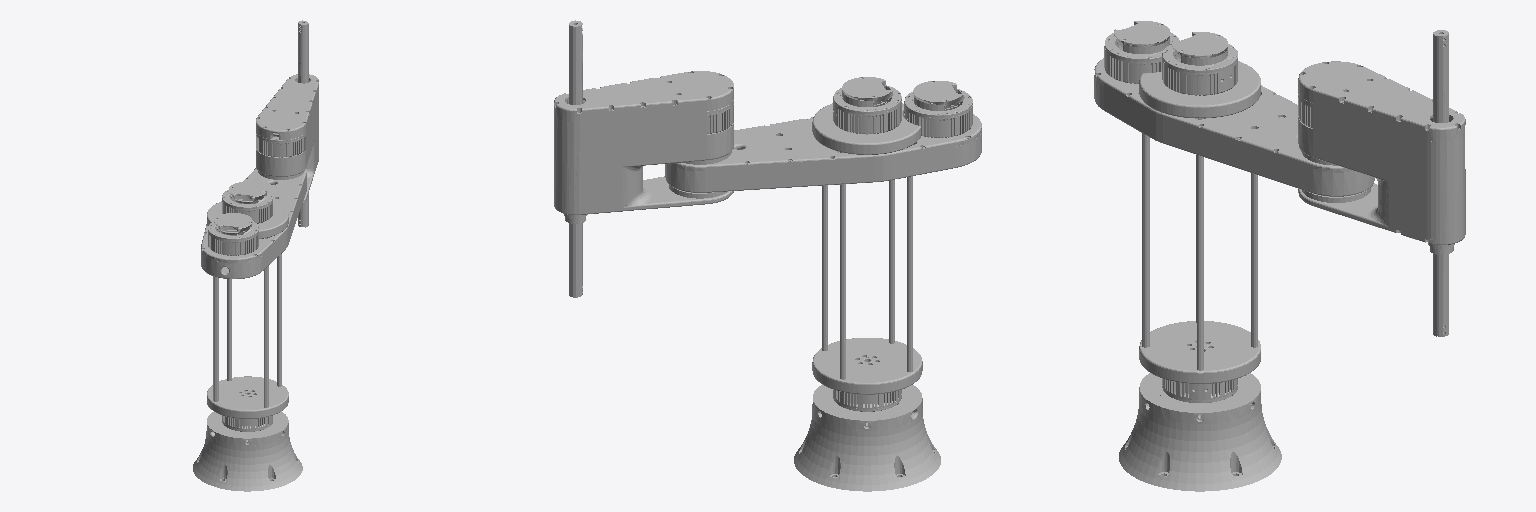
robot.urdf — scara:
<?xml version="1.0" encoding="utf-8"?>
<!-- This URDF was automatically created by SolidWorks to URDF Exporter! Originally created by [author] ([email redacted]) 
     Commit Version: 1.6.0-4-g7f85cfe  Build Version: 1.6.7995.38578
     For more information, please see http://wiki.ros.org/sw_urdf_exporter -->
<robot
  name="scara">
  <link
    name="base_link">
    <inertial>
      <origin
        xyz="-0.0312181080670715 -0.0334669780988594 -0.0578218547916156"
        rpy="0 0 0" />
      <mass
        value="0.991553024814628" />
      <inertia
        ixx="0.00192448076414443"
        ixy="3.88978492965056E-10"
        ixz="-1.9021143982621E-06"
        iyy="0.00191951034718875"
        iyz="-4.5832416130843E-10"
        izz="0.00288630780270429" />
    </inertial>
    <visual>
      <origin
        xyz="0 0 0"
        rpy="0 0 0" />
      <geometry>
        <mesh
          filename="package://scara/meshes/base_link.STL" />
      </geometry>
      <material
        name="">
        <color
          rgba="0.752941176470588 0.752941176470588 0.752941176470588 1" />
      </material>
    </visual>
    <collision>
      <origin
        xyz="0 0 0"
        rpy="0 0 0" />
      <geometry>
        <mesh
          filename="package://scara/meshes/base_link.STL" />
      </geometry>
    </collision>
  </link>
  <link
    name="link_1">
    <inertial>
      <origin
        xyz="0.00172917182975192 0.139396211973665 3.33066907387547E-16"
        rpy="0 0 0" />
      <mass
        value="0.380691277343991" />
      <inertia
        ixx="0.000867489103437293"
        ixy="4.18755318646343E-08"
        ixz="-2.71050543121376E-20"
        iyy="0.000688098984738763"
        iyz="1.68789441430779E-13"
        izz="0.000830767097364369" />
    </inertial>
    <visual>
      <origin
        xyz="0 0 0"
        rpy="0 0 0" />
      <geometry>
        <mesh
          filename="package://scara/meshes/link_1.STL" />
      </geometry>
      <material
        name="">
        <color
          rgba="0.752941176470588 0.752941176470588 0.752941176470588 1" />
      </material>
    </visual>
    <collision>
      <origin
        xyz="0 0 0"
        rpy="0 0 0" />
      <geometry>
        <mesh
          filename="package://scara/meshes/link_1.STL" />
      </geometry>
    </collision>
  </link>
  <joint
    name="joint_1"
    type="continuous">
    <origin
      xyz="-0.03133 -0.033466 0.019267"
      rpy="1.5708 0 0.78682" />
    <parent
      link="base_link" />
    <child
      link="link_1" />
    <axis
      xyz="0 1 0" />
    <limit
      lower="-3.14159"
      upper="3.14159"
      effort="0"
      velocity="0" />
  </joint>
  <link
    name="link_2">
    <inertial>
      <origin
        xyz="0.0387315298598948 0.0319513315645544 3.34457413448536E-08"
        rpy="0 0 0" />
      <mass
        value="0.584294845237385" />
      <inertia
        ixx="0.00070211387685335"
        ixy="3.46512571243546E-06"
        ixz="1.72393732920722E-09"
        iyy="0.00573417647994412"
        iyz="-1.17884429292898E-10"
        izz="0.00508595907643947" />
    </inertial>
    <visual>
      <origin
        xyz="0 0 0"
        rpy="0 0 0" />
      <geometry>
        <mesh
          filename="package://scara/meshes/link_2.STL" />
      </geometry>
      <material
        name="">
        <color
          rgba="0.752941176470588 0.752941176470588 0.752941176470588 1" />
      </material>
    </visual>
    <collision>
      <origin
        xyz="0 0 0"
        rpy="0 0 0" />
      <geometry>
        <mesh
          filename="package://scara/meshes/link_2.STL" />
      </geometry>
    </collision>
  </link>
  <joint
    name="joint_2"
    type="prismatic">
    <origin
      xyz="0 0.255 0"
      rpy="0 0 0" />
    <parent
      link="link_1" />
    <child
      link="link_2" />
    <axis
      xyz="0 1 0" />
    <limit
      lower="-0.255"
      upper="0"
      effort="0"
      velocity="0" />
  </joint>
  <link
    name="link_3">
    <inertial>
      <origin
        xyz="0.0621958216098636 0.0586225301105565 -0.000134467499421989"
        rpy="0 0 0" />
      <mass
        value="0.513779222985854" />
      <inertia
        ixx="0.000574443033030036"
        ixy="-1.46094068145259E-05"
        ixz="4.43029173842719E-05"
        iyy="0.00168259059031408"
        iyz="4.86986642168209E-05"
        izz="0.00188020009012022" />
    </inertial>
    <visual>
      <origin
        xyz="0 0 0"
        rpy="0 0 0" />
      <geometry>
        <mesh
          filename="package://scara/meshes/link_3.STL" />
      </geometry>
      <material
        name="">
        <color
          rgba="0.752941176470588 0.752941176470588 0.752941176470588 1" />
      </material>
    </visual>
    <collision>
      <origin
        xyz="0 0 0"
        rpy="0 0 0" />
      <geometry>
        <mesh
          filename="package://scara/meshes/link_3.STL" />
      </geometry>
    </collision>
  </link>
  <joint
    name="joint_3"
    type="revolute">
    <origin
      xyz="0.2 0 0"
      rpy="0 0.031534 0" />
    <parent
      link="link_2" />
    <child
      link="link_3" />
    <axis
      xyz="0 1 0" />
    <limit
      lower="-1.5708"
      upper="1.5708"
      effort="0"
      velocity="0" />
  </joint>
  <link
    name="link_4">
    <inertial>
      <origin
        xyz="0.000142599190301643 0.0603589523875112 -3.05779894943514E-06"
        rpy="0 0 0" />
      <mass
        value="0.131330963776556" />
      <inertia
        ixx="0.000733010954054825"
        ixy="-4.0731693013925E-08"
        ixz="-1.4297939083239E-10"
        iyy="1.17289819321792E-05"
        iyz="6.65332240095673E-08"
        izz="0.000733255067821208" />
    </inertial>
    <visual>
      <origin
        xyz="0 0 0"
        rpy="0 0 0" />
      <geometry>
        <mesh
          filename="package://scara/meshes/link_4.STL" />
      </geometry>
      <material
        name="">
        <color
          rgba="0.752941176470588 0.752941176470588 0.752941176470588 1" />
      </material>
    </visual>
    <collision>
      <origin
        xyz="0 0 0"
        rpy="0 0 0" />
      <geometry>
        <mesh
          filename="package://scara/meshes/link_4.STL" />
      </geometry>
    </collision>
  </link>
  <joint
    name="joint_4"
    type="continuous">
    <origin
      xyz="0.15 0 0"
      rpy="3.1416 -1.1272 3.1416" />
    <parent
      link="link_3" />
    <child
      link="link_4" />
    <axis
      xyz="0 1 0" />
    <limit
      lower="0"
      upper="0"
      effort="0"
      velocity="0" />
  </joint>
</robot>

--- Render facts (derived) ---
Views: 3 orthographic renders of the robot side by side, from view 1: azimuth 30°, elevation 25°; view 2: azimuth 150°, elevation 25°; view 3: azimuth 270°, elevation 25°.
Model scara with 5 links and 4 joints (1 revolute, 2 continuous, 1 prismatic), rooted at base_link, posed all joints at 0.
Links seen in each view (by area): view 1: link_1, base_link, link_3, link_2, link_4; view 2: link_3, link_2, link_1, base_link, link_4; view 3: link_3, link_1, link_2, base_link, link_4.
Boxes of the visible links, x1=… form: link_1: x1=207, y1=182, x2=288, y2=418; base_link: x1=193, y1=411, x2=302, y2=491; link_3: x1=256, y1=74, x2=318, y2=204; link_2: x1=201, y1=168, x2=306, y2=278; link_4: x1=298, y1=20, x2=308, y2=227; link_3: x1=554, y1=71, x2=733, y2=214; link_2: x1=665, y1=81, x2=981, y2=192; link_1: x1=812, y1=77, x2=922, y2=394; base_link: x1=794, y1=385, x2=940, y2=491; link_4: x1=564, y1=20, x2=587, y2=297; link_3: x1=1298, y1=61, x2=1465, y2=244; link_1: x1=1139, y1=32, x2=1260, y2=383; link_2: x1=1094, y1=21, x2=1374, y2=196; base_link: x1=1119, y1=373, x2=1281, y2=491; link_4: x1=1428, y1=30, x2=1454, y2=336.
Size in the robot's own frame: 0.3787 by 0.3863 by 0.6004 metres.
5 mesh visuals loaded from 5 distinct referenced files (5 binary STL).